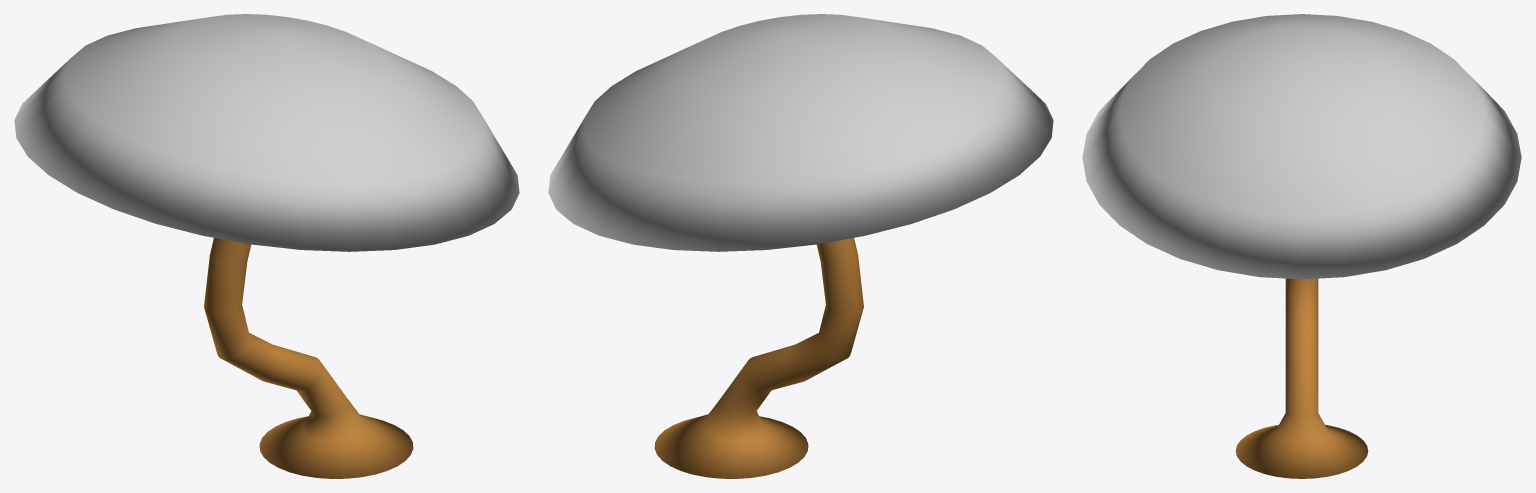
The model's file is champignon008.fbx.
The picture shows the model from 3 angles, left to right: view 1: azimuth 30°, elevation 25°; view 2: azimuth 150°, elevation 25°; view 3: azimuth 270°, elevation 25°; orthographic projection. The views are drawn at different scales.
Visible parts, largest first — view 1: Cylinder_001; view 2: Cylinder_001; view 3: Cylinder_001.
Boxes of the visible parts, <box> form: Cylinder_001: <box>14,14,519,478</box>; Cylinder_001: <box>548,14,1053,478</box>; Cylinder_001: <box>1082,14,1521,478</box>.
Bounding box in the file's own units: 131 × 121 × 132.
